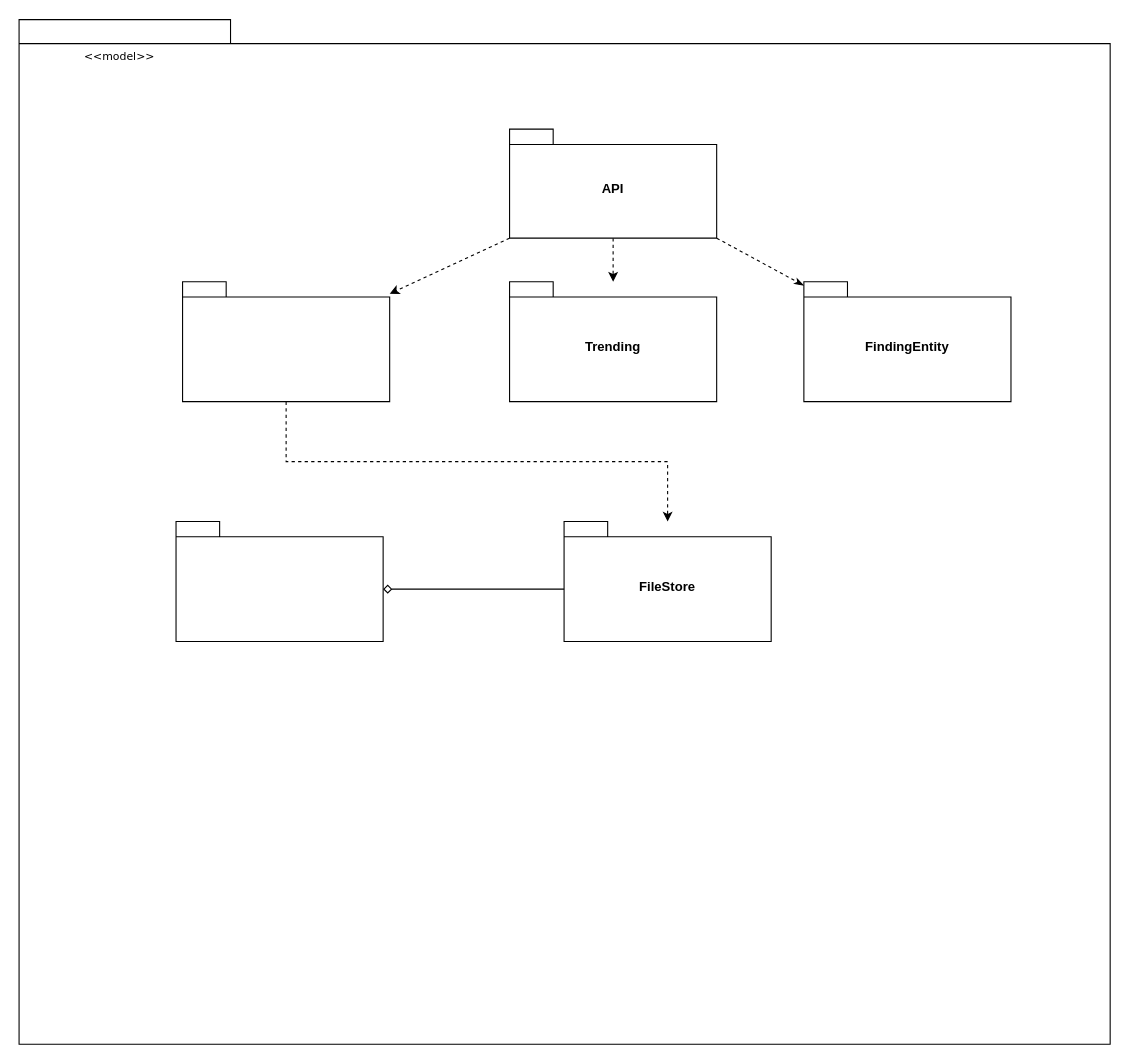
Some shapes in this 1129 by 1063 pixel diagram are drawn without their labels. The shapes that lost their labels are listed below. From the top down, each one's centre as x and y in pixels, then its label:
At point (285, 341): "Search".
At point (279, 580): "Crawler".
